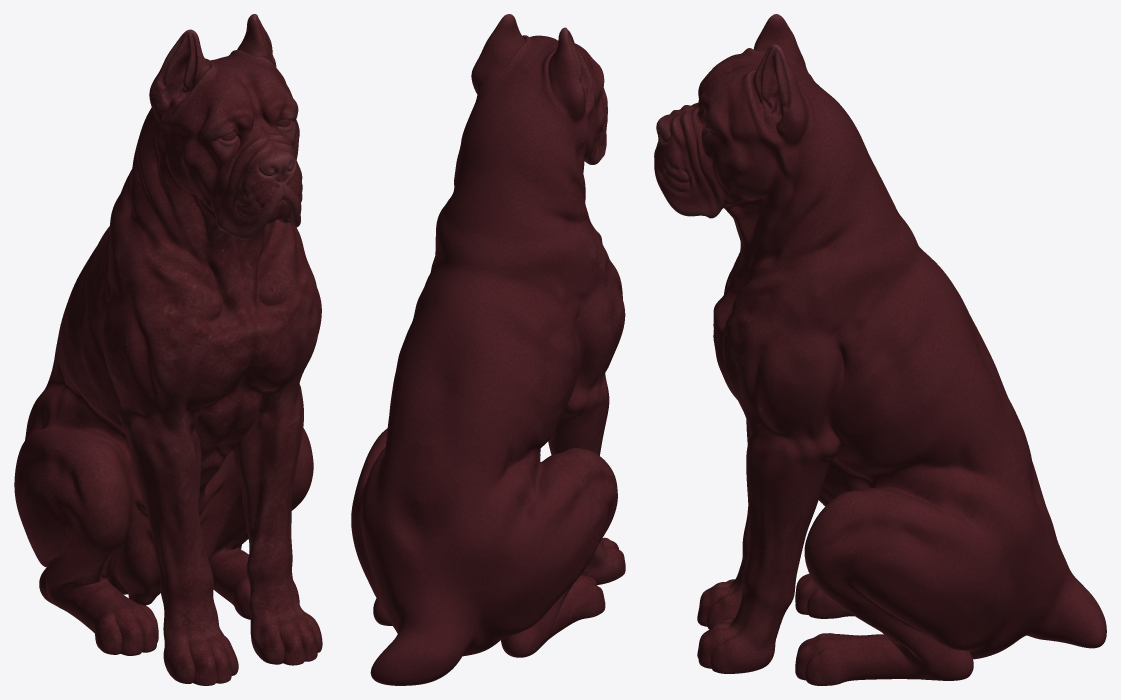
Rendered from dog.glb.
The picture shows the model from 3 angles, left to right: view 1: azimuth 30°, elevation 25°; view 2: azimuth 150°, elevation 25°; view 3: azimuth 270°, elevation 25°; orthographic projection. The views are drawn at different scales.
Bounding box in the file's own units: 0.82 × 1.9 × 1.28.
Materials: 1 (1 with a texture image).
